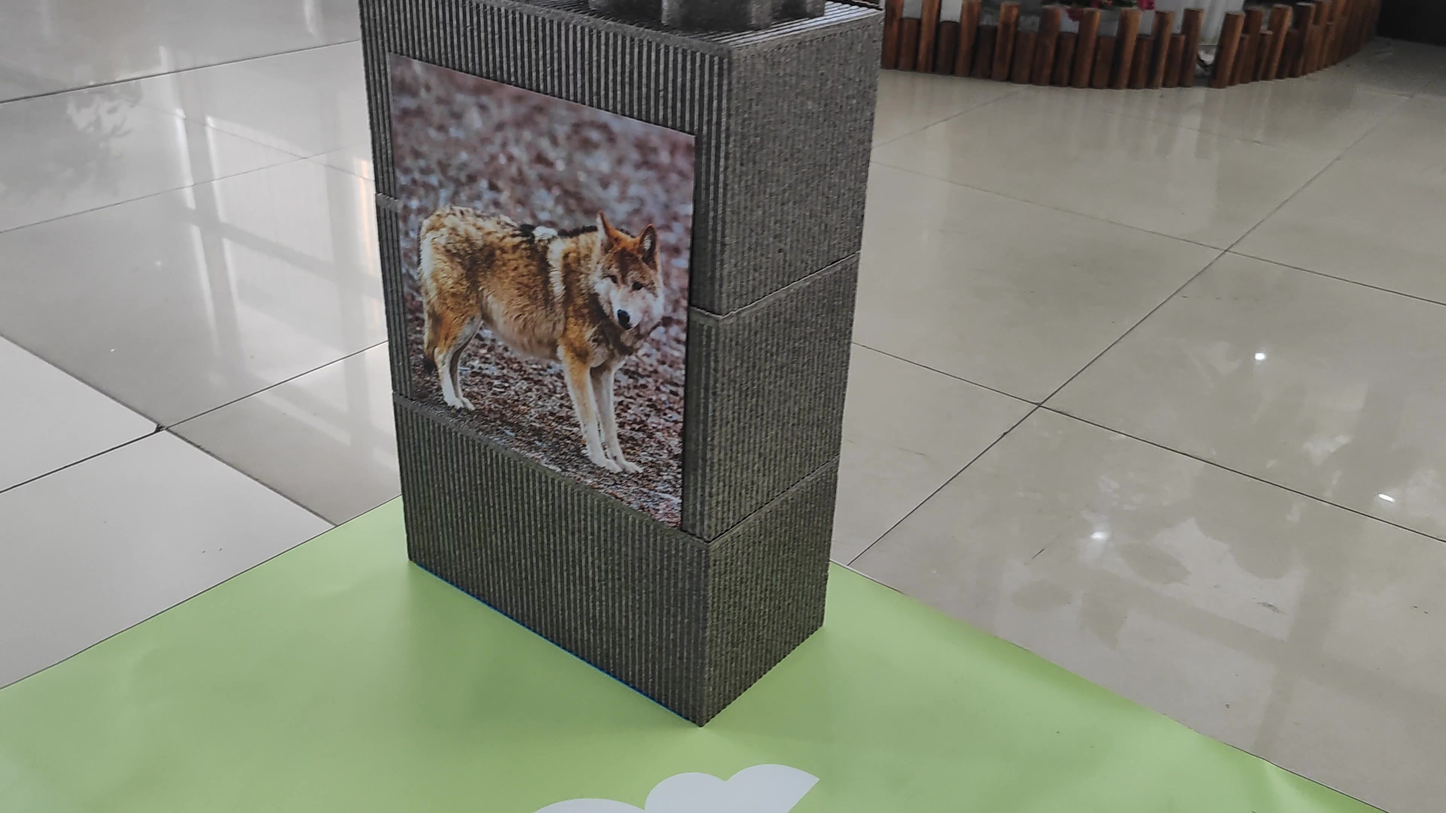wolf: (387, 169, 694, 468)
